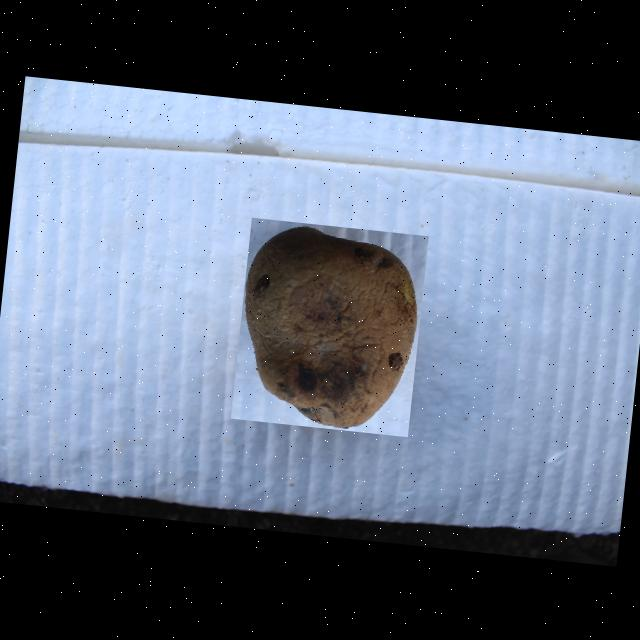Diseased-fungal potato: (230, 217, 428, 436)
